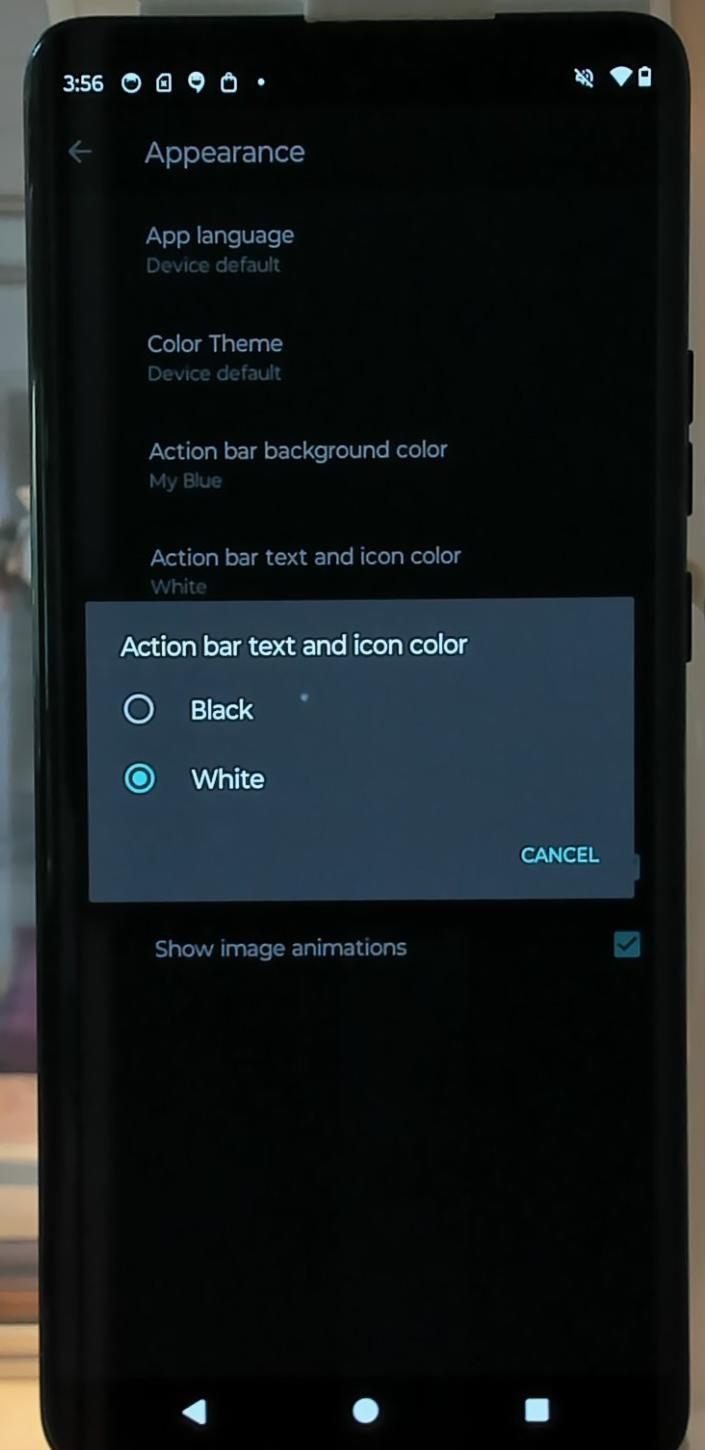CommunBotton: (345, 1386, 386, 1440), (510, 1389, 557, 1428), (175, 1382, 212, 1430)
RadioButton: (117, 747, 270, 810), (115, 684, 256, 738)
